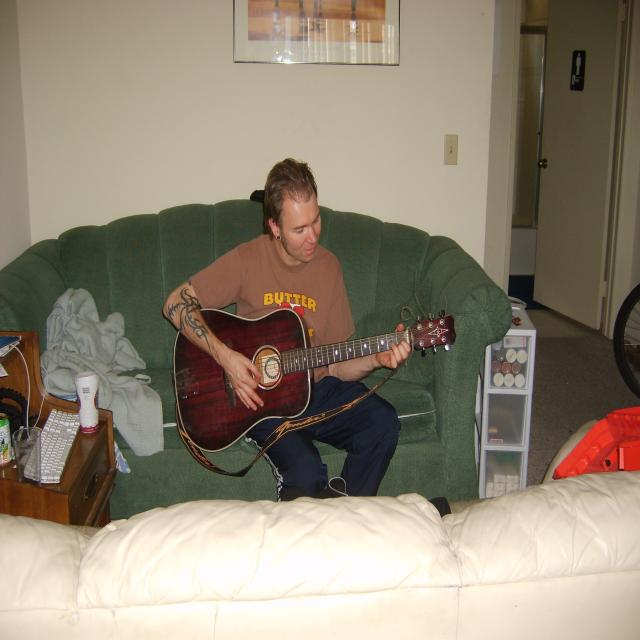guitar: (174, 307, 457, 455)
